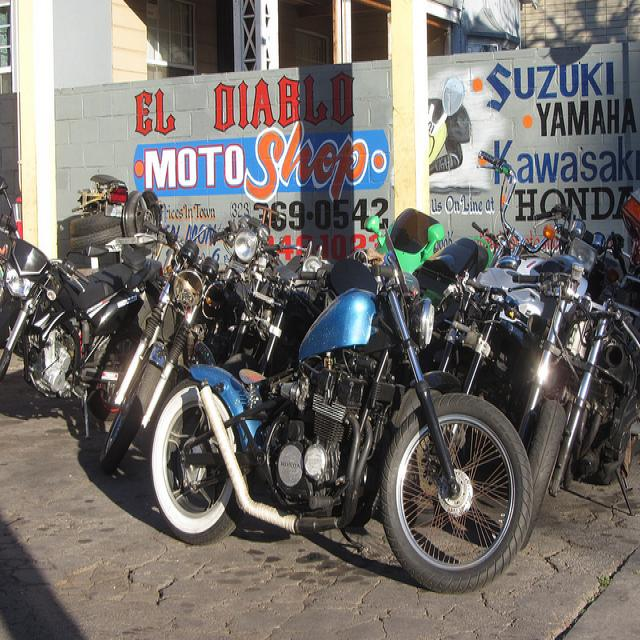motor: (145, 226, 533, 594), (424, 153, 640, 428), (91, 219, 238, 477), (519, 250, 640, 541), (228, 240, 325, 377), (364, 205, 494, 279), (532, 204, 627, 301), (212, 216, 270, 339), (412, 259, 462, 375), (298, 247, 344, 312)
